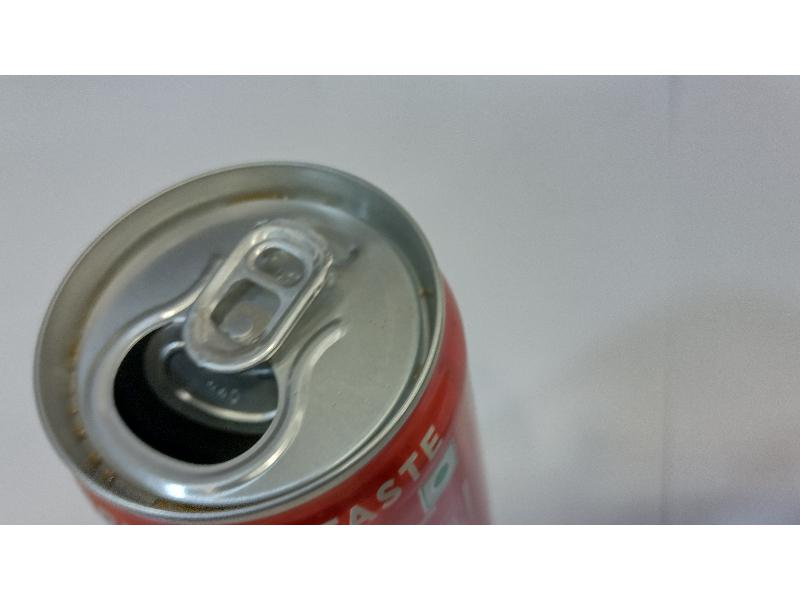can: (27, 151, 511, 520)
